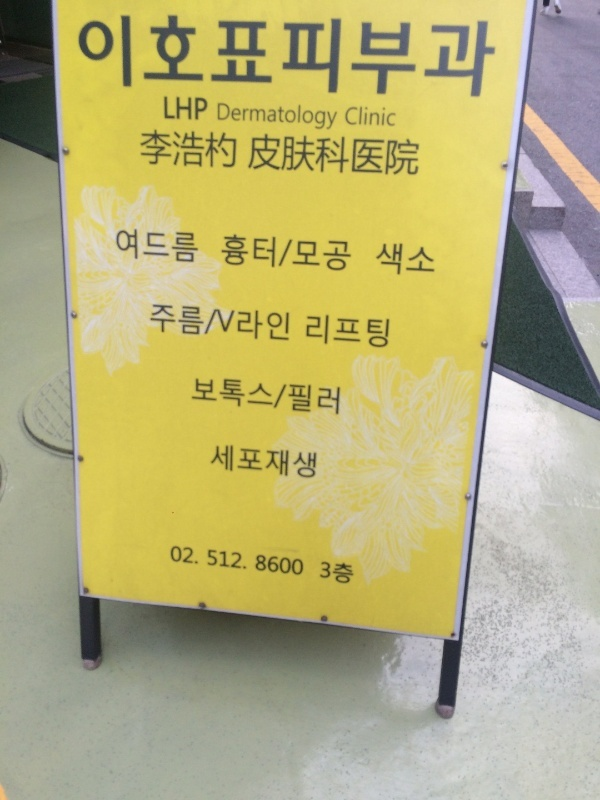text: (81, 7, 96, 105), (97, 7, 112, 105), (113, 7, 128, 105), (129, 7, 144, 105), (145, 7, 160, 105), (161, 7, 176, 105), (177, 7, 192, 105), (193, 7, 208, 105), (209, 7, 224, 105), (225, 7, 240, 105), (241, 7, 256, 105), (257, 7, 272, 105), (273, 7, 288, 105), (289, 7, 304, 105), (305, 7, 320, 105), (321, 7, 336, 105), (337, 7, 352, 105), (353, 7, 368, 105), (369, 7, 384, 105), (385, 7, 400, 105), (401, 7, 416, 105), (417, 7, 432, 105), (433, 7, 448, 105), (449, 7, 464, 105), (465, 7, 480, 105), (481, 7, 496, 105), (145, 124, 160, 174), (161, 124, 176, 174), (177, 124, 192, 174), (193, 124, 208, 174), (209, 124, 224, 174), (257, 130, 272, 180), (273, 130, 288, 180), (289, 130, 304, 180), (305, 130, 320, 180), (321, 130, 336, 180), (337, 130, 352, 180), (353, 130, 368, 180), (369, 130, 384, 180), (385, 130, 400, 180), (401, 130, 416, 180), (129, 222, 144, 267), (145, 222, 160, 267), (161, 222, 176, 267), (177, 222, 192, 267), (225, 124, 238, 174), (337, 233, 353, 273), (193, 375, 208, 417), (209, 375, 224, 417), (225, 375, 240, 417), (241, 375, 256, 417), (257, 375, 272, 417), (273, 375, 288, 417), (289, 375, 304, 417), (305, 375, 320, 417), (321, 375, 336, 417), (385, 239, 400, 280), (401, 239, 416, 280), (417, 239, 432, 280), (225, 233, 240, 273), (241, 233, 256, 273), (257, 233, 272, 273), (273, 233, 288, 273), (289, 233, 304, 273), (305, 233, 320, 273), (321, 233, 336, 273), (225, 444, 240, 481), (241, 444, 256, 481), (257, 444, 272, 481), (273, 444, 288, 481), (289, 444, 304, 481), (321, 313, 336, 349), (337, 313, 352, 349), (353, 313, 368, 349), (369, 313, 384, 349), (161, 303, 176, 337), (177, 303, 192, 337), (241, 310, 256, 343), (257, 310, 272, 343), (273, 310, 288, 343), (117, 222, 128, 267), (497, 7, 502, 105), (211, 444, 224, 481), (307, 313, 320, 349), (225, 102, 240, 132), (241, 102, 256, 132), (257, 102, 272, 132), (273, 102, 288, 132), (289, 102, 304, 132), (305, 102, 320, 132), (321, 102, 336, 132), (193, 94, 209, 122), (305, 444, 317, 481), (193, 303, 206, 337), (177, 94, 192, 122), (209, 307, 224, 334), (321, 561, 336, 587), (337, 561, 352, 587), (163, 94, 176, 122), (353, 104, 368, 128), (369, 104, 384, 128), (249, 130, 256, 180), (257, 554, 272, 577), (273, 554, 288, 577), (289, 554, 304, 577), (209, 549, 224, 571), (225, 549, 240, 571), (177, 544, 192, 566), (193, 222, 200, 267), (385, 104, 398, 128), (151, 303, 160, 337), (225, 307, 236, 334), (77, 7, 80, 105), (377, 239, 384, 280), (140, 124, 144, 174), (417, 130, 421, 180), (385, 313, 390, 349), (218, 102, 224, 132), (337, 375, 341, 417), (346, 104, 352, 128), (241, 549, 247, 571), (193, 544, 199, 566), (171, 544, 176, 566), (433, 239, 435, 280), (353, 561, 356, 587), (238, 310, 240, 343), (337, 102, 339, 132), (223, 233, 224, 273), (289, 310, 290, 343), (207, 307, 208, 334), (207, 549, 208, 571)
